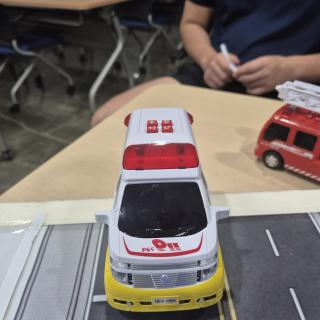Ambulance: (95, 108, 229, 312)
